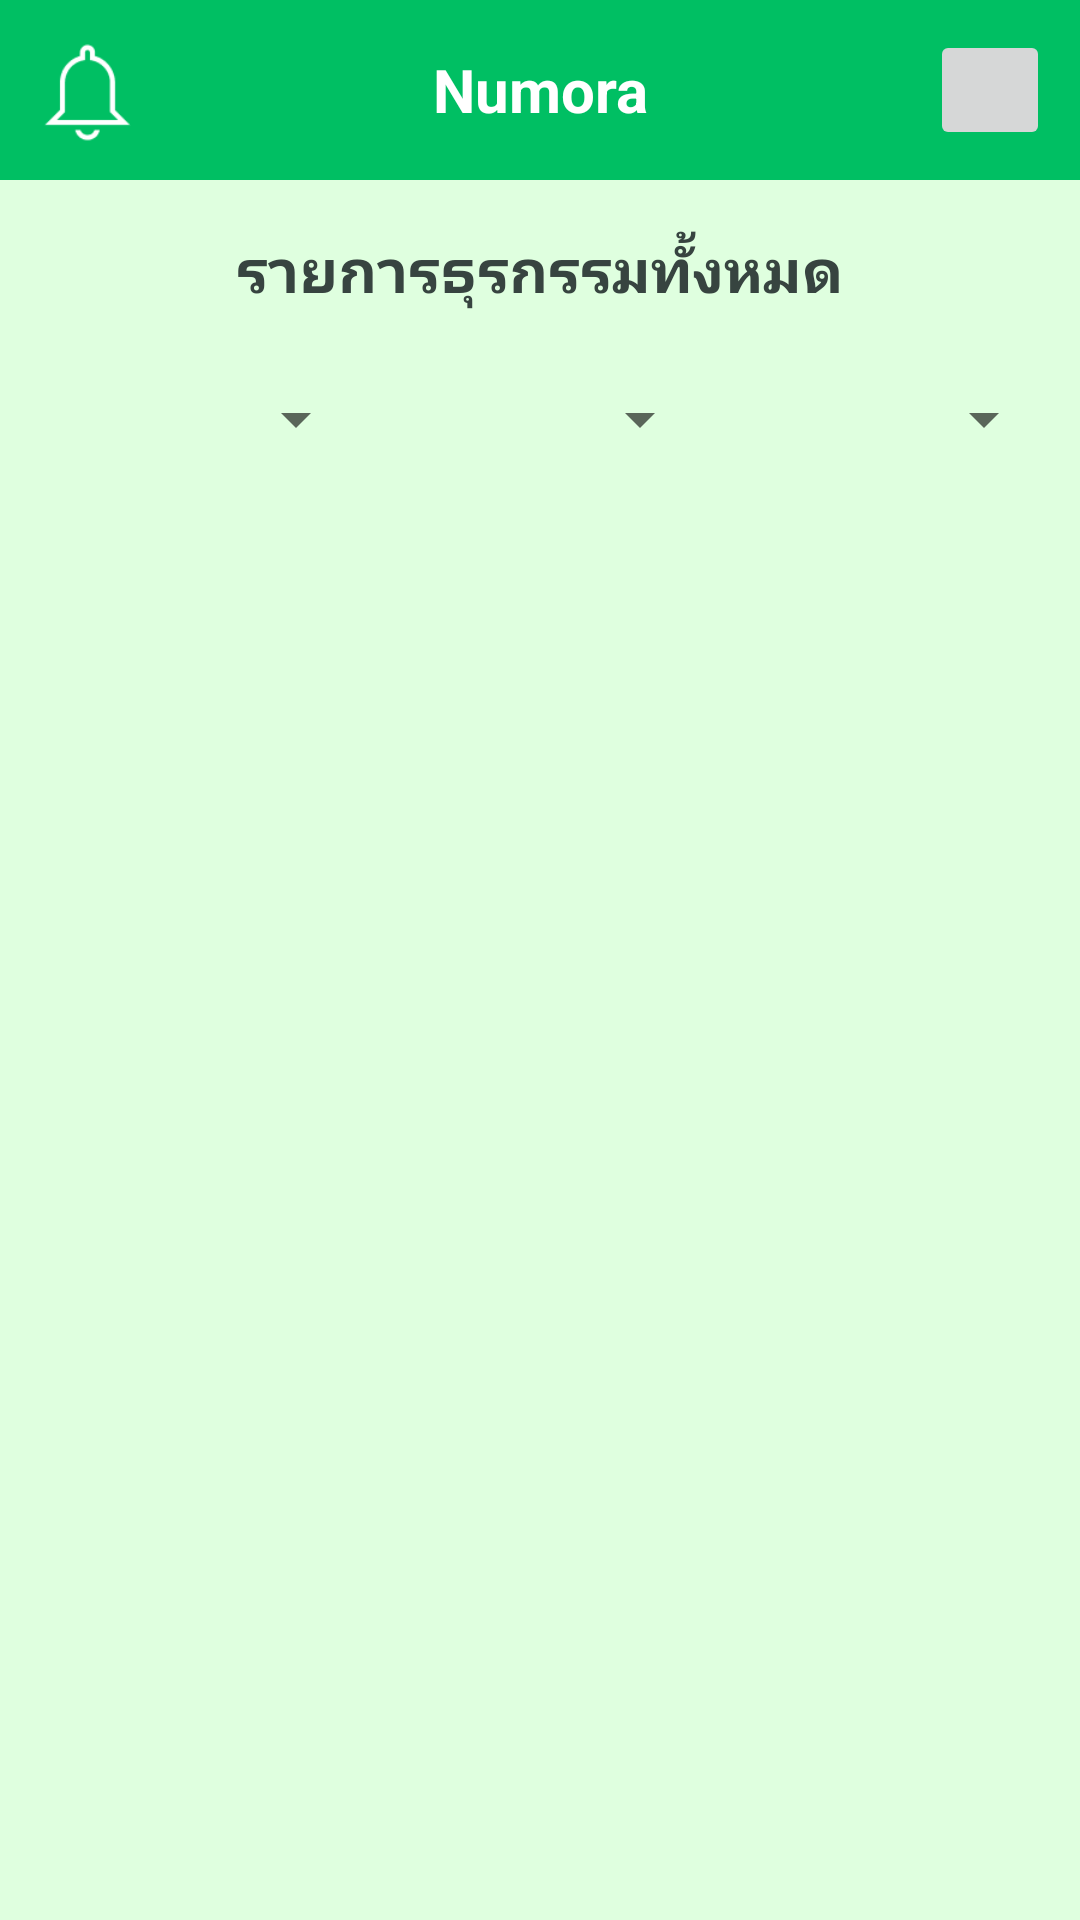

Named icons in this screenshot (1080x1920) and their centers, point (x, y):
notifications: point (87, 92)
